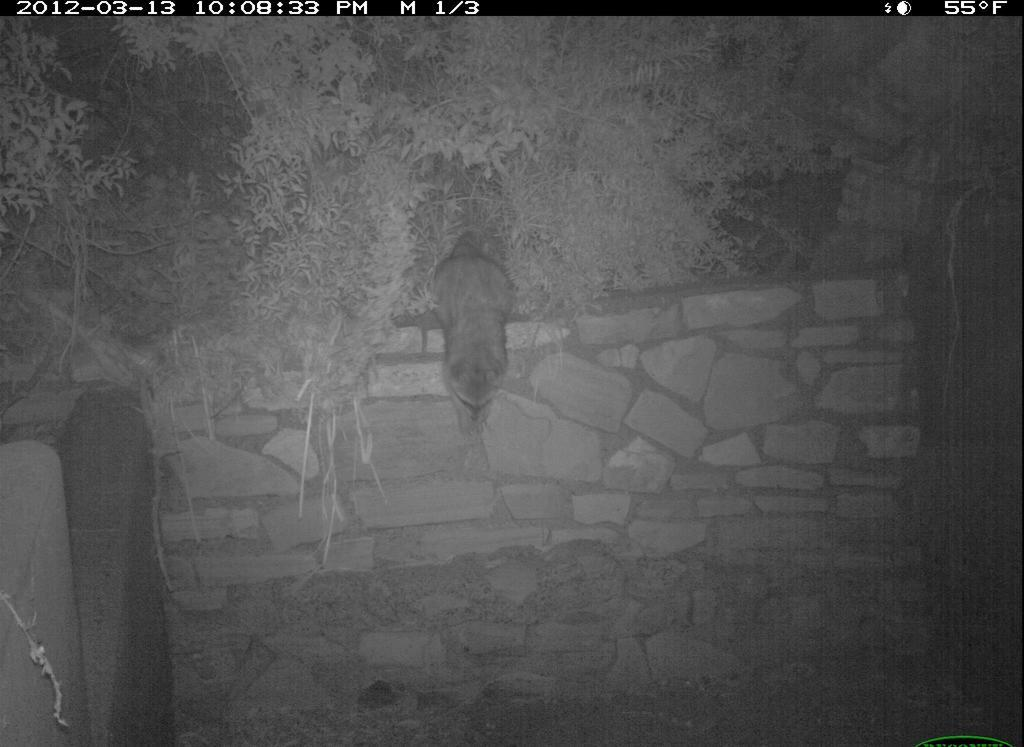raccoon: (422, 225, 523, 436)
